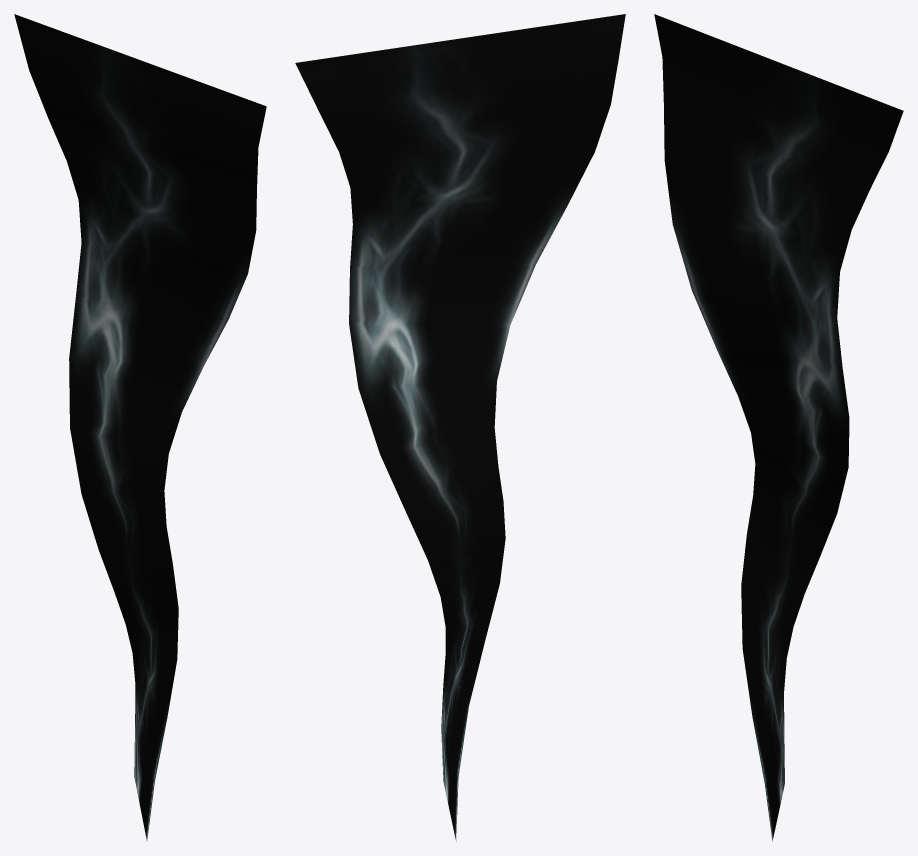
The model's file is yan.FBX.
3 views of the same model, side by side, from view 1: azimuth 90°, elevation 25°; view 2: azimuth 150°, elevation 25°; view 3: azimuth 270°, elevation 25° (orthographic). The views are drawn at different scales.
Parts seen in each view (by area): view 1: Helix01; view 2: Helix01; view 3: Helix01.
Part boxes in pixels (box(x1,y1,x2,y2)): Helix01: box(14, 14, 266, 841); Helix01: box(295, 14, 625, 841); Helix01: box(654, 14, 903, 841).
Bounding box in the file's own units: 14.91 × 57.43 × 16.71.
